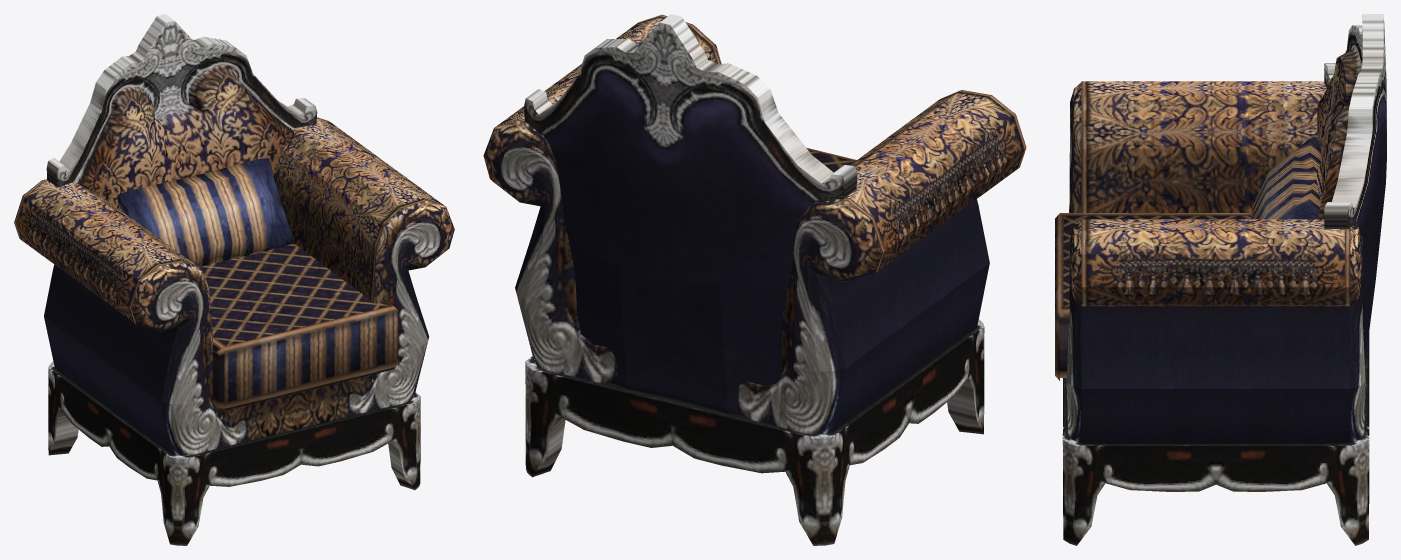
Rendered from furni_0201208.FBX.
3 views of the same model, side by side, from view 1: azimuth 30°, elevation 25°; view 2: azimuth 150°, elevation 25°; view 3: azimuth 270°, elevation 25° (orthographic). The views are drawn at different scales.
Visible parts, largest first — view 1: furni_0201208; view 2: furni_0201208; view 3: furni_0201208.
Part boxes in pixels (left/top/right/bottom): furni_0201208: left=14, top=14, right=454, bottom=545; furni_0201208: left=483, top=14, right=1026, bottom=545; furni_0201208: left=1055, top=14, right=1386, bottom=545.
Bounding box in the file's own units: 79.29 × 93.85 × 61.43.
1 material, 1 textured.
